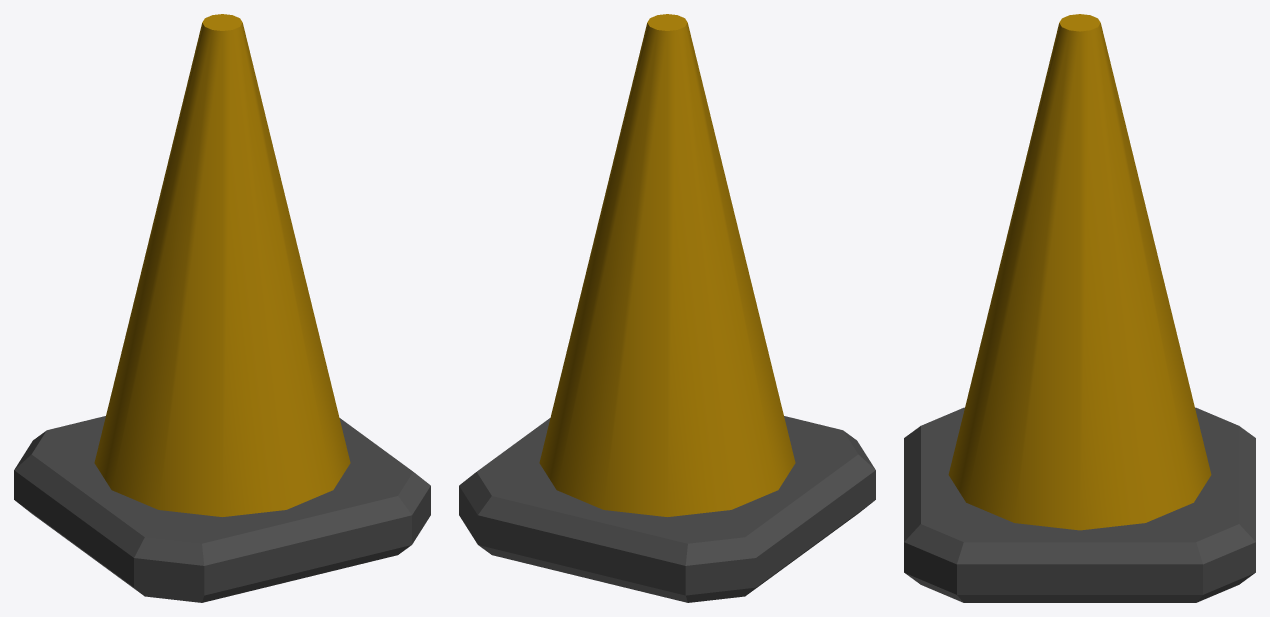
Rendered from trafficcone.fbx.
3 renders of one model, left to right at view 1: azimuth 30°, elevation 25°; view 2: azimuth 150°, elevation 25°; view 3: azimuth 270°, elevation 25°, orthographic. The views are drawn at different scales.
Visible parts, largest first — view 1: OrangeCone, TrafficCone; view 2: OrangeCone, TrafficCone; view 3: OrangeCone, TrafficCone.
Boxes of the visible parts, x1,y1,x2,y2 form: OrangeCone: (94, 14, 350, 516); TrafficCone: (14, 416, 430, 602); OrangeCone: (539, 14, 795, 516); TrafficCone: (459, 416, 875, 602); OrangeCone: (948, 14, 1211, 530); TrafficCone: (904, 407, 1255, 602).
Bounding box in the file's own units: 58.77 × 94.54 × 58.77.
